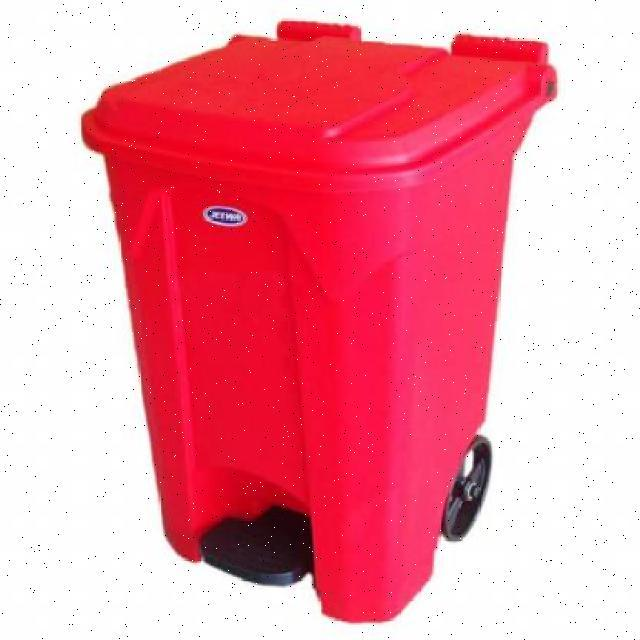garbage container: (68, 13, 577, 626)
